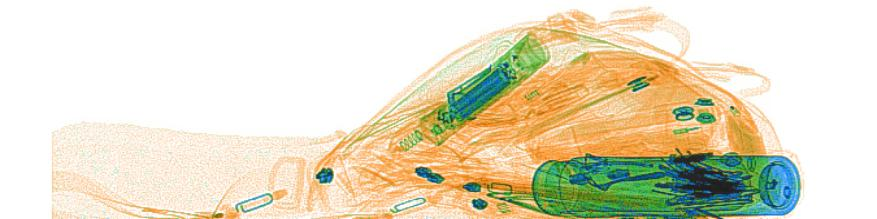battery: (448, 62, 510, 124)
